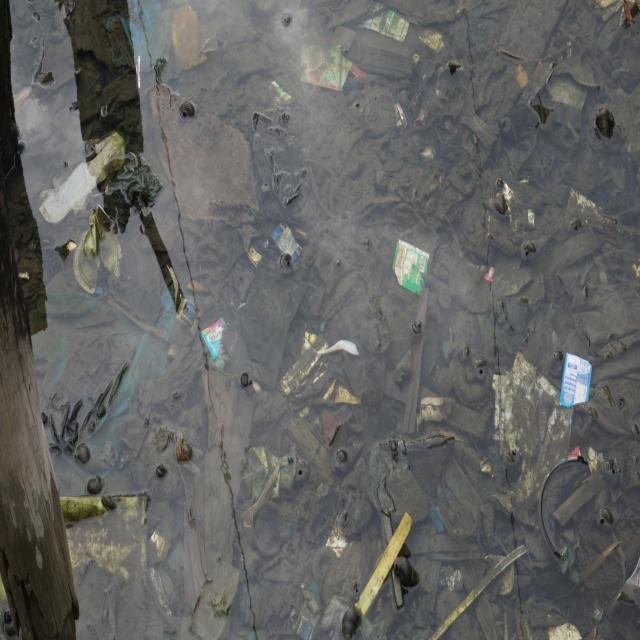Bungkus Minuman: (392, 237, 430, 298), (559, 351, 594, 414)
Kantong Plastik: (101, 146, 165, 219)
